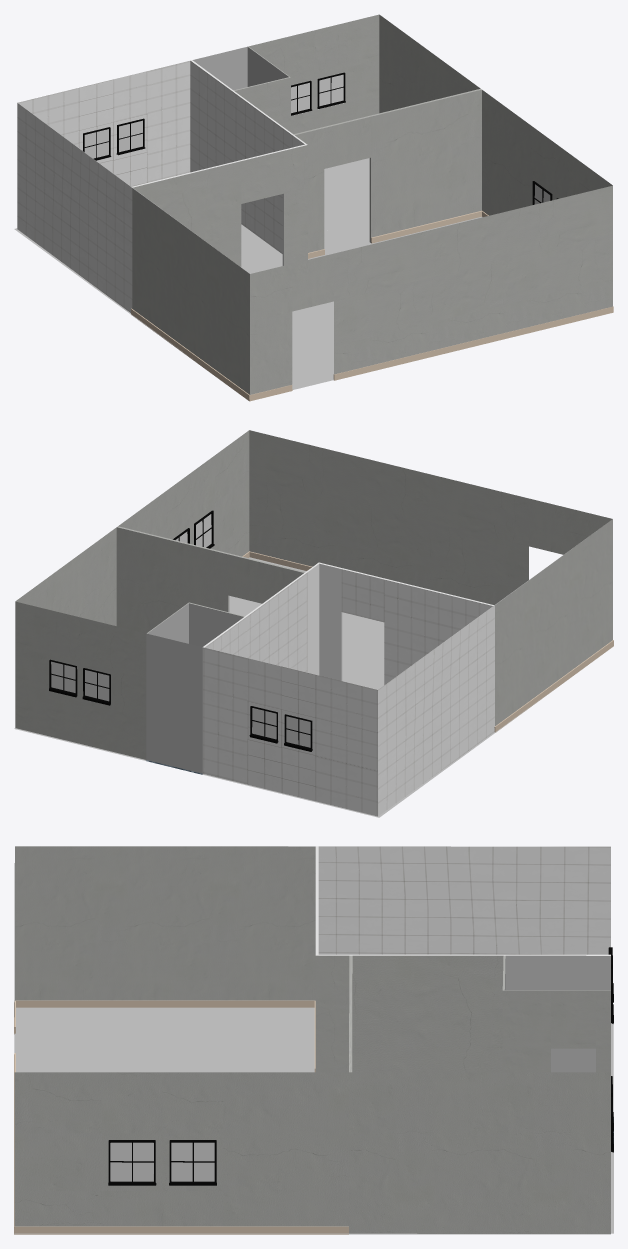
Rendered from apartment.fbx.
3 renders of one model, top to bottom at view 1: azimuth 30°, elevation 25°; view 2: azimuth 150°, elevation 25°; view 3: azimuth 270°, elevation 25°, orthographic. The views are drawn at different scales.
Parts seen in each view (by area): view 1: Plane.001, Plane, Plane.003, Plane.005, Plane.006, Plane.007; view 2: Plane.001, Plane, Plane.003, Plane.005, Plane.006, Plane.007; view 3: Plane.001, Plane, Plane.003, Plane.002, Plane.004, Cube.001, Cube.002.
Part boxes in pixels (left/top/right/bottom): Plane.001: left=17, top=14, right=612, bottom=394; Plane: left=14, top=158, right=482, bottom=389; Plane.003: left=131, top=210, right=613, bottom=401; Plane.005: left=291, top=74, right=343, bottom=113; Plane.006: left=84, top=129, right=108, bottom=158; Plane.007: left=119, top=120, right=142, bottom=152; Plane.001: left=15, top=430, right=612, bottom=816; Plane: left=14, top=557, right=547, bottom=817; Plane.003: left=242, top=551, right=613, bottom=732; Plane.005: left=51, top=661, right=109, bottom=701; Plane.006: left=286, top=716, right=310, bottom=747; Plane.007: left=252, top=708, right=276, bottom=739; Plane.001: left=14, top=846, right=610, bottom=1234; Plane: left=14, top=1007, right=613, bottom=1233; Plane.003: left=14, top=1000, right=348, bottom=1234; Plane.002: left=171, top=1142, right=214, bottom=1181; Plane.004: left=110, top=1142, right=153, bottom=1181; Cube.001: left=169, top=1140, right=216, bottom=1185; Cube.002: left=108, top=1140, right=156, bottom=1185.
Size of the model in its own units: 900 by 298 by 999.
